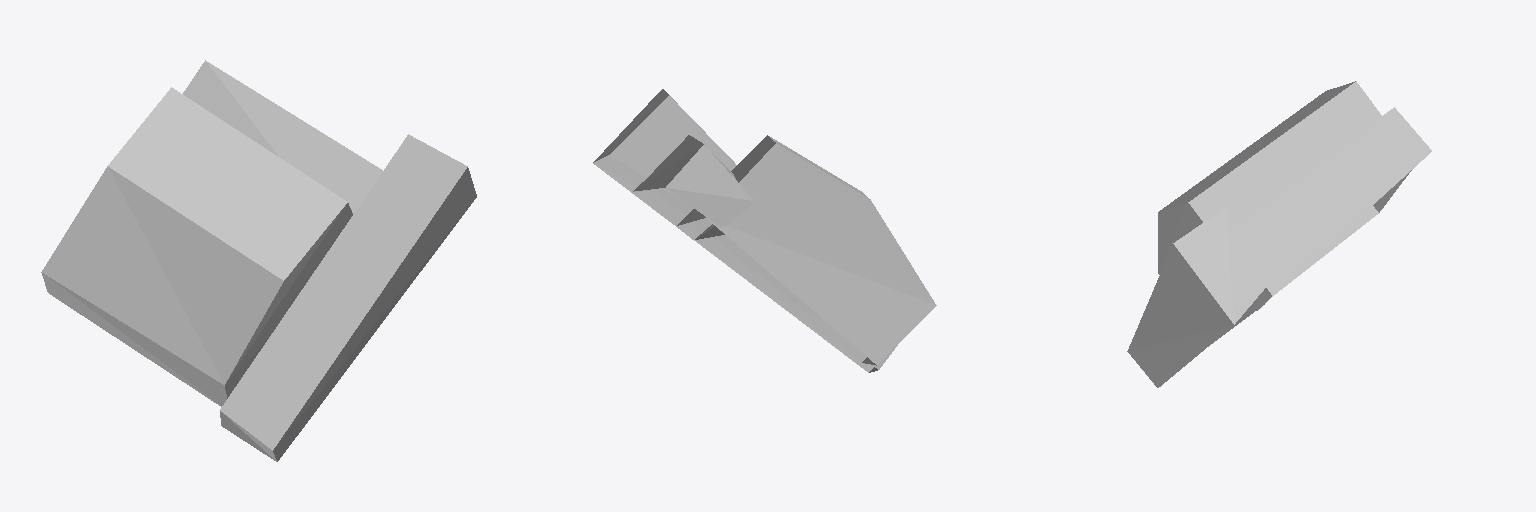
3 renders of one model, left to right at view 1: azimuth 30°, elevation 25°; view 2: azimuth 150°, elevation 25°; view 3: azimuth 270°, elevation 25°, orthographic.
Visible parts, largest first — view 1: [number redacted]; view 2: [number redacted]; view 3: [number redacted].
Part boxes in pixels (x1,y1,x2,y2): [number redacted]: (41,60,476,461); [number redacted]: (593,89,936,372); [number redacted]: (1127,81,1431,387).
Size of the model in its own units: 14.75 by 11 by 10.